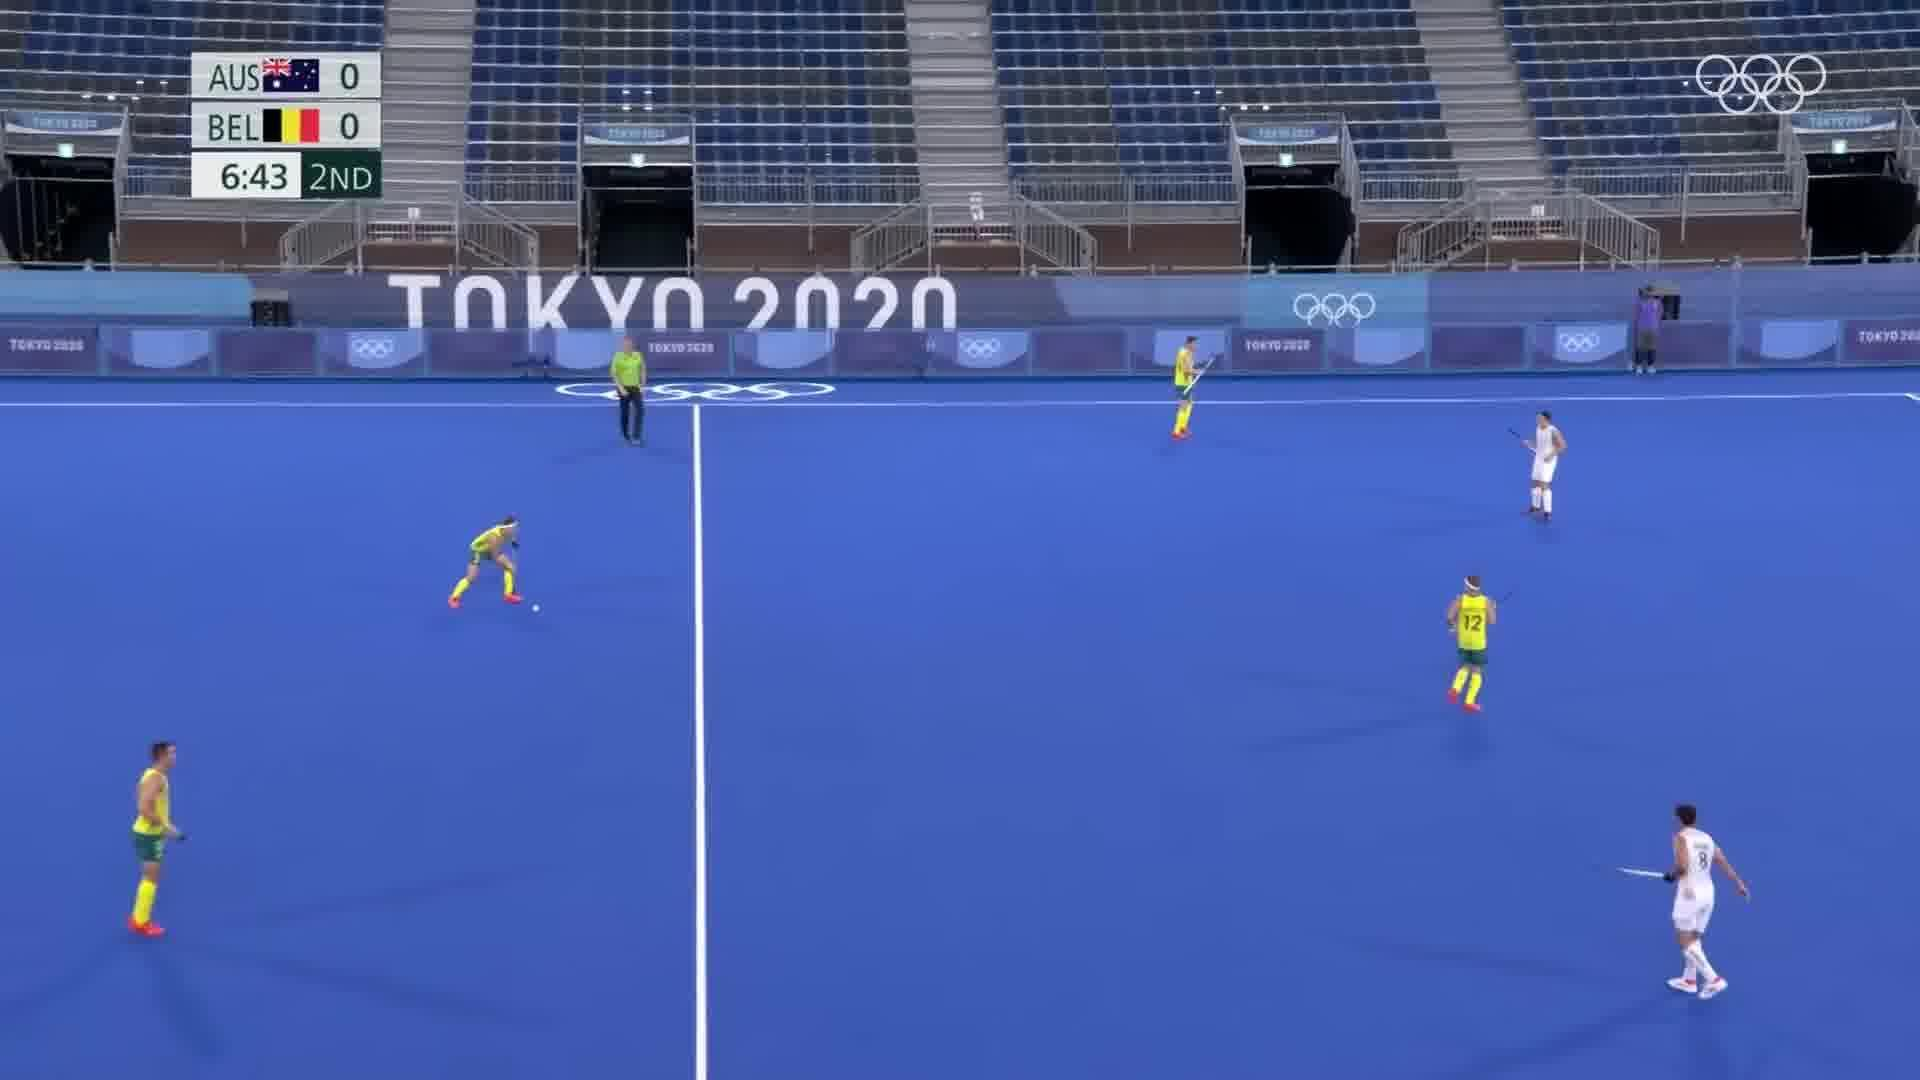ball: (527, 597, 546, 618)
